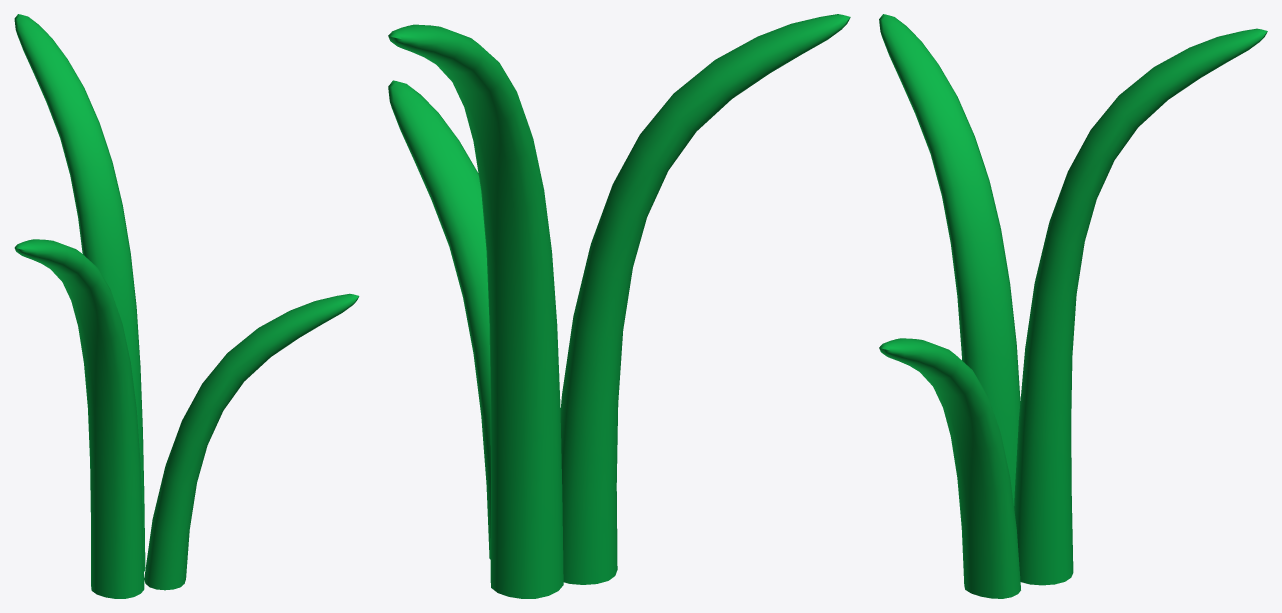
File: Town_14_Grass_1.glb
The picture shows the model from 3 angles, left to right: view 1: azimuth 30°, elevation 25°; view 2: azimuth 150°, elevation 25°; view 3: azimuth 270°, elevation 25°; orthographic projection. The views are drawn at different scales.
Parts seen in each view (by area): view 1: Town_14_Grass_1; view 2: Town_14_Grass_1; view 3: Town_14_Grass_1.
Part boxes in pixels (x1,y1,x2,y2): Town_14_Grass_1: (14, 14, 359, 598); Town_14_Grass_1: (388, 14, 850, 598); Town_14_Grass_1: (879, 14, 1267, 598).
Size of the model in its own units: 0.6248 by 0.8455 by 0.5469.
Materials: 1 (1 with a texture image).
